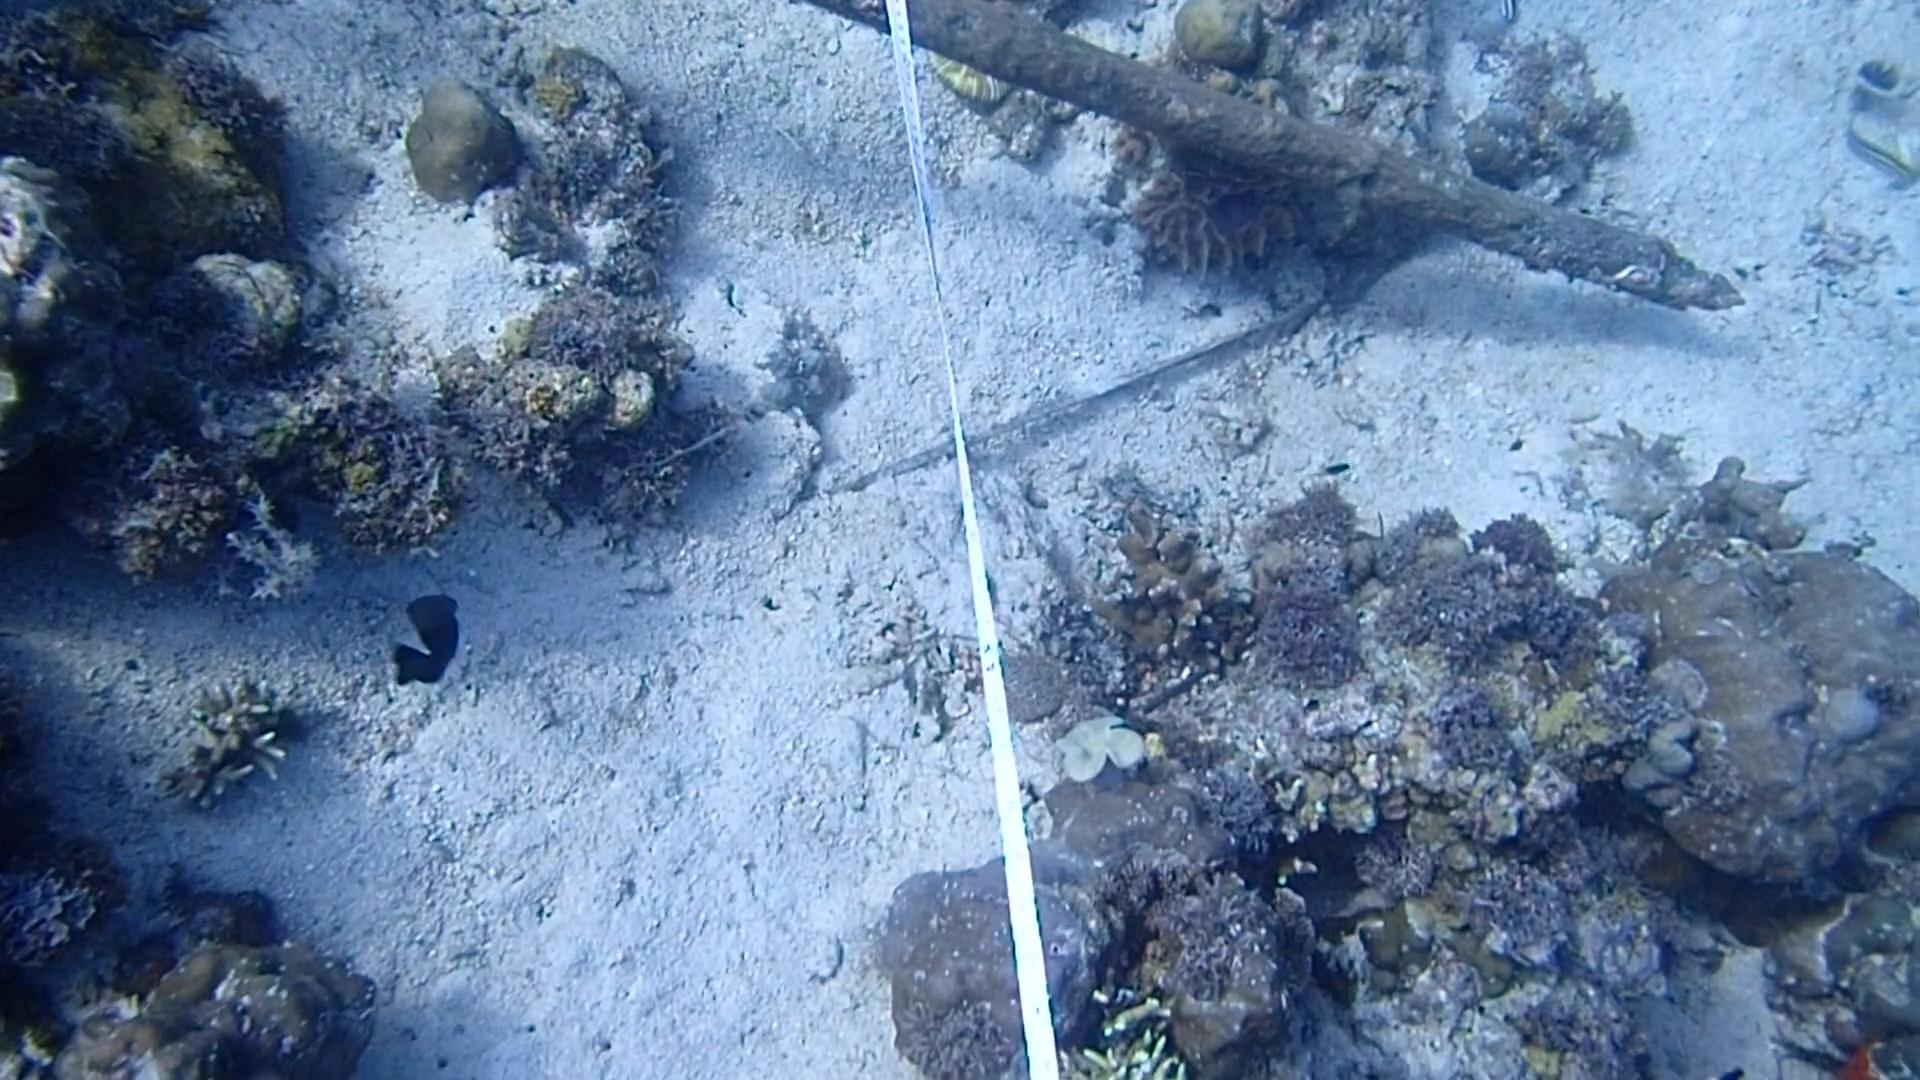Dark Fish: (375, 578, 473, 691)
Striped Fish: (1837, 111, 1920, 195)
